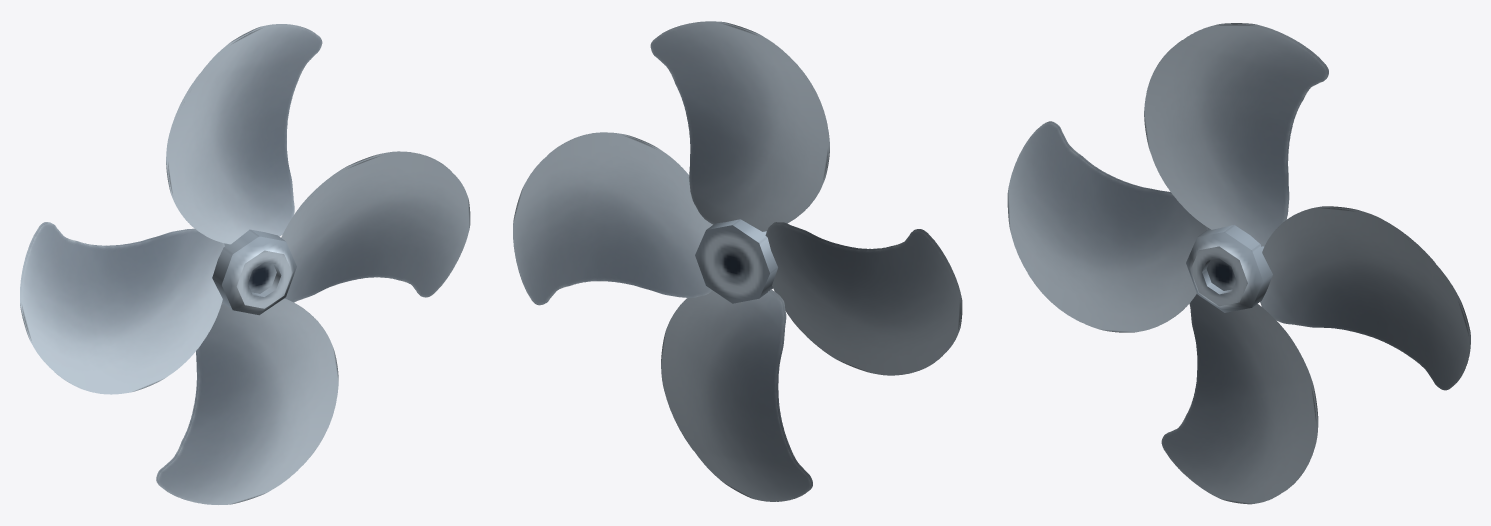
File: AirConditioner_Fan.fbx
3 renders of one model, left to right at view 1: azimuth 30°, elevation 25°; view 2: azimuth 150°, elevation 25°; view 3: azimuth 330°, elevation 25°, orthographic. The views are drawn at different scales.
Visible parts, largest first — view 1: pPlane39, pPlane38, pPlane36, pPlane37, pCylinder56; view 2: pPlane37, pPlane36, pPlane38, pPlane39, pCylinder56; view 3: pPlane36, pPlane39, pPlane37, pPlane38, pCylinder56.
Part boxes in pixels (x1,y1,x2,y2): pPlane39: (20, 222, 224, 394); pPlane38: (156, 298, 338, 504); pPlane36: (166, 24, 322, 244); pPlane37: (281, 151, 470, 302); pCylinder56: (212, 229, 296, 315); pPlane37: (513, 132, 712, 305); pPlane36: (650, 21, 829, 231); pPlane38: (661, 289, 812, 501); pPlane39: (765, 222, 962, 375); pCylinder56: (695, 219, 777, 303); pPlane36: (1144, 23, 1328, 246); pPlane39: (1007, 121, 1208, 332); pPlane37: (1260, 206, 1470, 390); pPlane38: (1161, 294, 1318, 504); pCylinder56: (1186, 225, 1272, 312).
Bounding box in the file's own units: 55.58 × 55.58 × 6.23.
